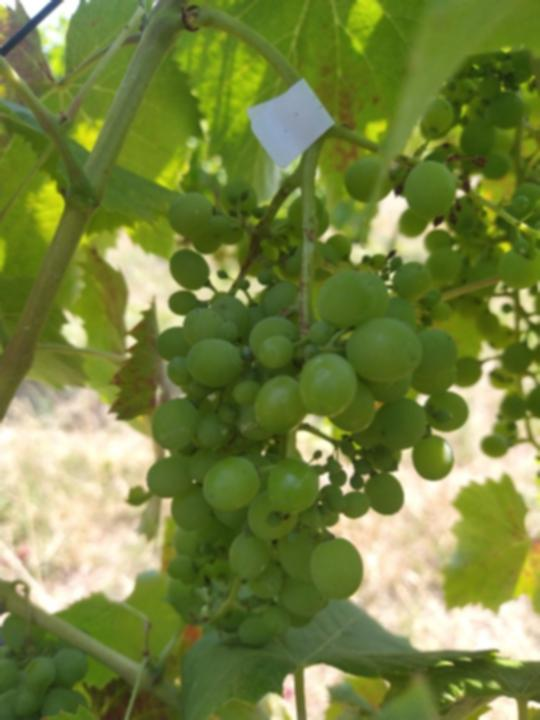grape: (135, 98, 490, 651)
